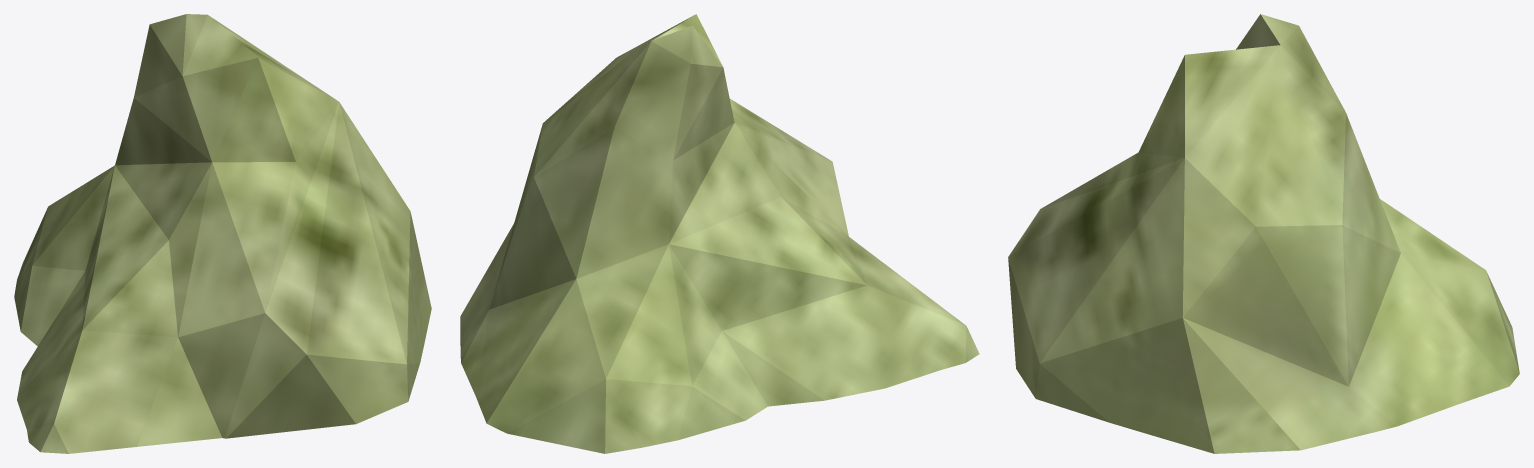
The picture shows the model from 3 angles, left to right: view 1: azimuth 30°, elevation 25°; view 2: azimuth 150°, elevation 25°; view 3: azimuth 270°, elevation 25°; orthographic projection.
Size of the model in its own units: 1.08 by 0.7744 by 1.08.
Materials: 1 (1 with a texture image).
